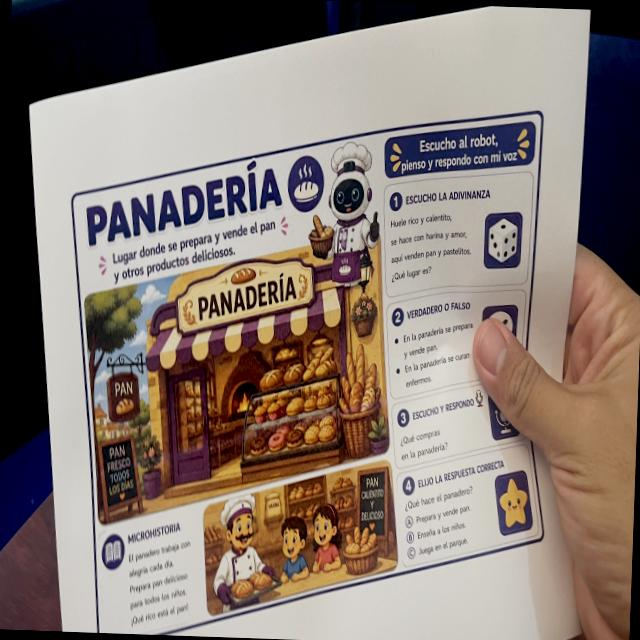panaderia: (51, 87, 562, 640)
